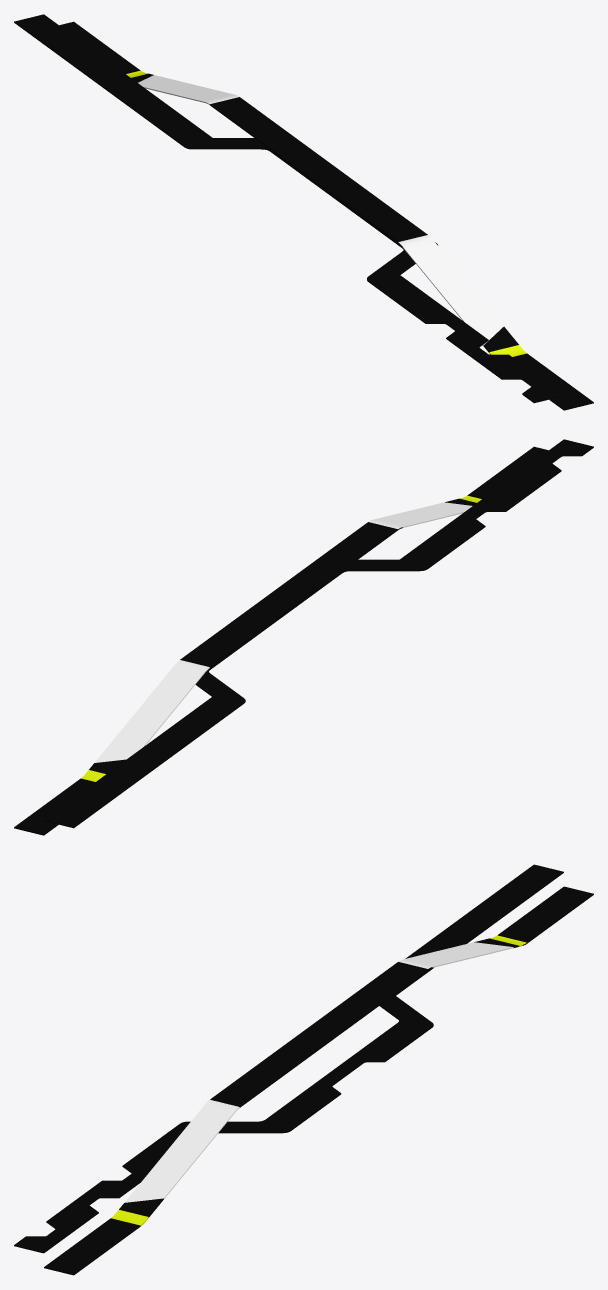
File: mello.FBX
The picture shows the model from 3 angles, top to bottom: view 1: azimuth 30°, elevation 25°; view 2: azimuth 150°, elevation 25°; view 3: azimuth 330°, elevation 25°; orthographic projection.
Parts seen in each view (by area): view 1: Object120; view 2: Object120; view 3: Object120.
Part boxes in pixels (x1=…): Object120: x1=14, y1=14, x2=593, y2=410; Object120: x1=14, y1=439, x2=593, y2=835; Object120: x1=14, y1=864, x2=593, y2=1275.
Bounding box in the file's own units: 1800 × 901 × 18030.
